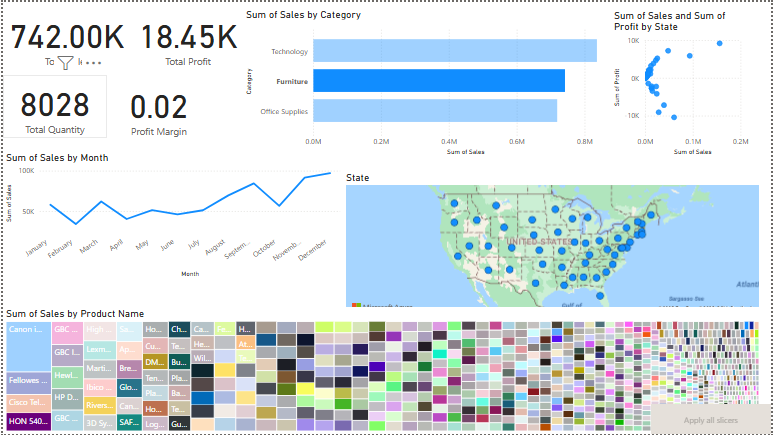

This screenshot's page, from the dashboard's own definition file:
{"tool":"powerbi","page":{"name":"Page 1","canvas":[1280,720],"ordinal":0},"visuals":[{"type":"card","fields":{"Values":["Superstore.Total Sales"]},"box":[0,0,182.2,121.1],"z":0},{"type":"card","fields":{"Values":["Superstore.Total Quantity"]},"box":[0,121.4,172.9,105.7],"z":1},{"type":"card","fields":{"Values":["Superstore.Total Profit"]},"box":[163.3,0,235.6,121.1],"z":2},{"type":"card","fields":{"Values":["Superstore.Profit Margin"]},"box":[173.3,106.7,172.2,141.1],"z":3},{"type":"barChart","fields":{"Category":["Superstore.Category"],"Y":["Sum(Superstore.Sales)"]},"box":[400,10,645,250],"z":4},{"type":"azureMap","fields":{"Category":["Superstore.State"]},"box":[567.1,281.4,698.6,242.9],"z":5},{"type":"lineChart","fields":{"Category":["Superstore.Order Date.Variation.Date Hierarchy.Month"],"Y":["Sum(Superstore.Sales)"]},"box":[0,248.6,567.1,215.7],"z":6},{"type":"treemap","fields":{"Group":["Superstore.Product Name"],"Values":["Sum(Superstore.Sales)"]},"box":[0,508.3,1265,211.7],"z":7},{"type":"scatterChart","fields":{"X":["Sum(Superstore.Sales)"],"Y":["Sum(Superstore.Profit)"],"Category":["Superstore.State"]},"box":[1013.3,11.7,235,248.3],"z":8},{"type":"actionButton","box":[1080,670,200,50],"z":9}]}

Visuals, with their boxes in screenshot pixels (x1, y1, x2, y2), scaled from the page's 1280x720 canvas onto the 777x435 screenshot:
card - Superstore.Total Sales: locate(0, 0, 111, 73)
card - Superstore.Total Quantity: locate(0, 73, 105, 137)
card - Superstore.Total Profit: locate(99, 0, 242, 73)
card - Superstore.Profit Margin: locate(105, 64, 210, 150)
barChart - Superstore.Category x Sum(Superstore.Sales): locate(243, 6, 634, 157)
azureMap - Superstore.State: locate(344, 170, 768, 317)
lineChart - Superstore.Order Date.Variation.Date Hierarchy.Month x Sum(Superstore.Sales): locate(0, 150, 344, 281)
treemap - Superstore.Product Name x Sum(Superstore.Sales): locate(0, 307, 768, 434)
scatterChart - Sum(Superstore.Sales) x Sum(Superstore.Profit): locate(615, 7, 758, 157)
actionButton: locate(656, 405, 776, 434)
